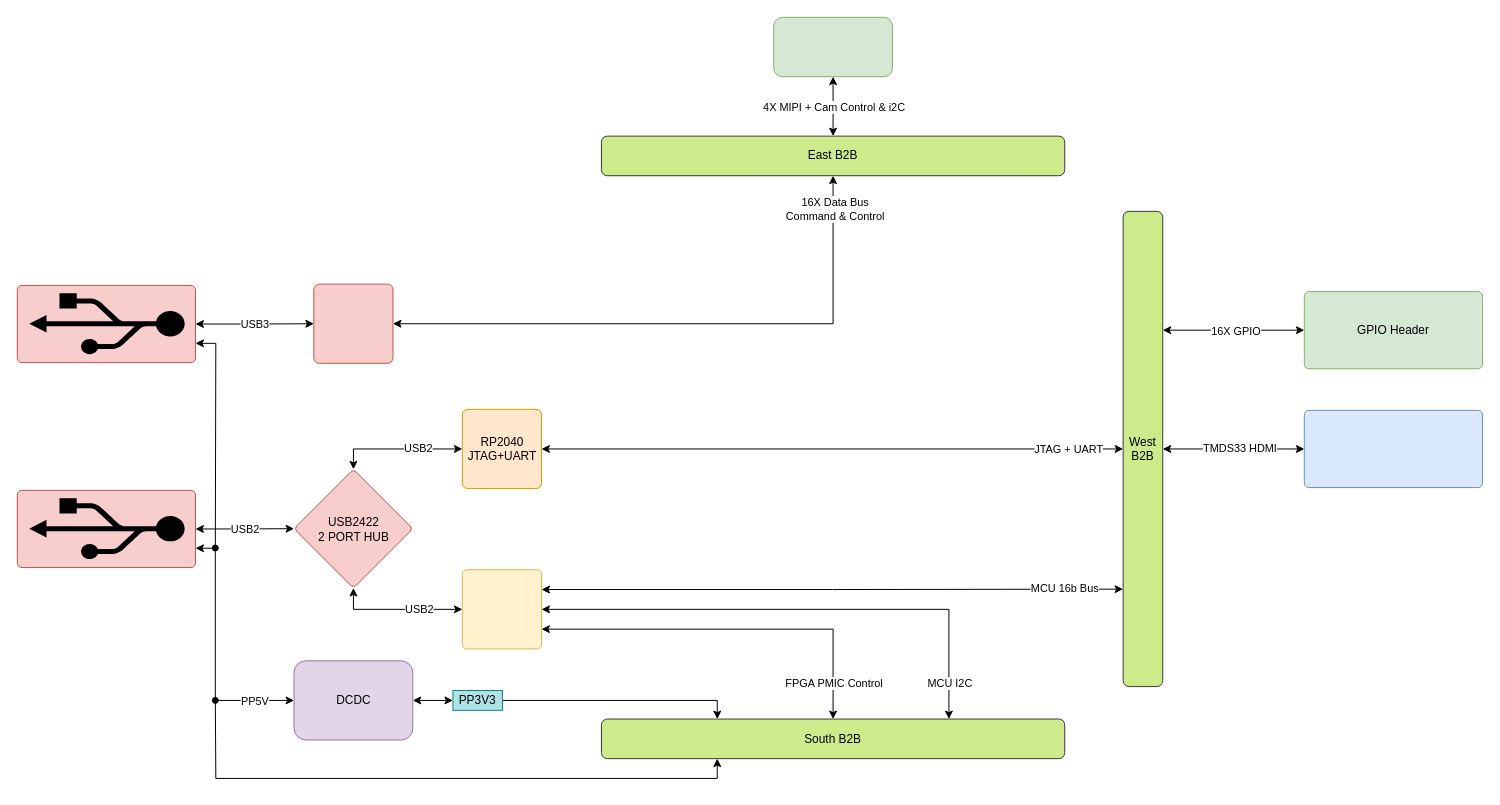
Some shapes in this 1500 by 805 pixel diagram are drawn without their labels. Here are the shapes that lost their labels. From the top down, the box of each, then its label:
(773, 16, 892, 77): Camera FPC
(313, 283, 393, 363): FT600 USB PHY
(1303, 409, 1483, 488): HDMI PORT
(461, 569, 542, 649): RP2040 MCU
